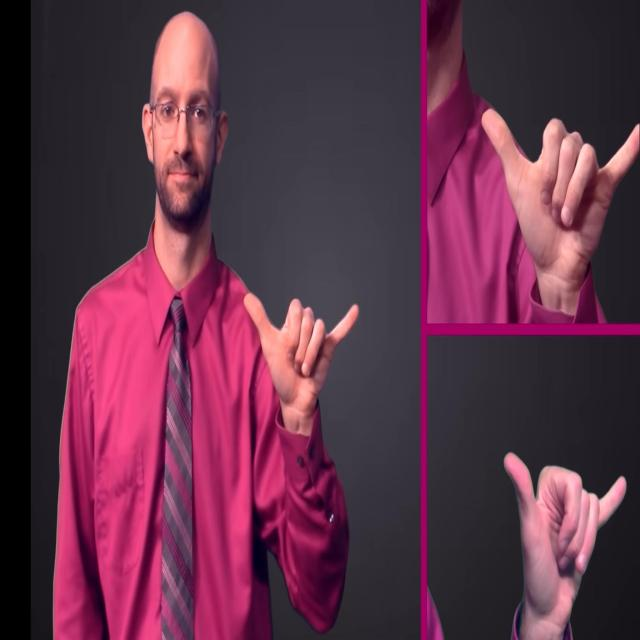Y: (476, 103, 640, 298), (500, 447, 629, 624), (242, 290, 363, 414)
